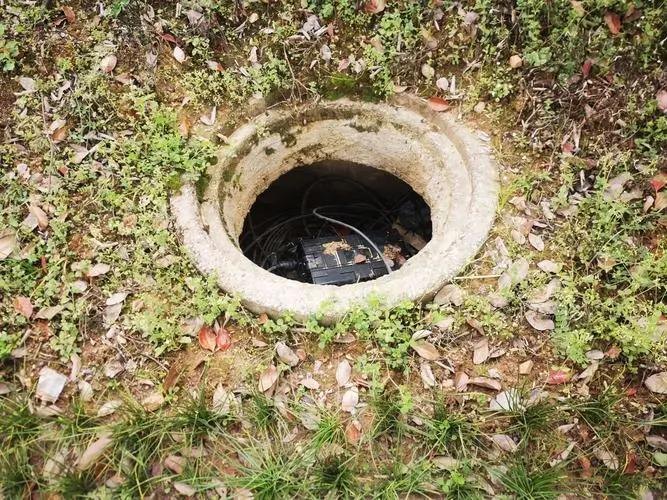wellcover: (188, 97, 465, 289)
